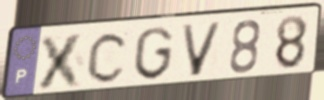8: (274, 14, 309, 71), (228, 18, 262, 75)
C: (85, 30, 131, 85)
G: (132, 24, 175, 82)
V: (179, 20, 226, 79)
X: (34, 30, 88, 91)
